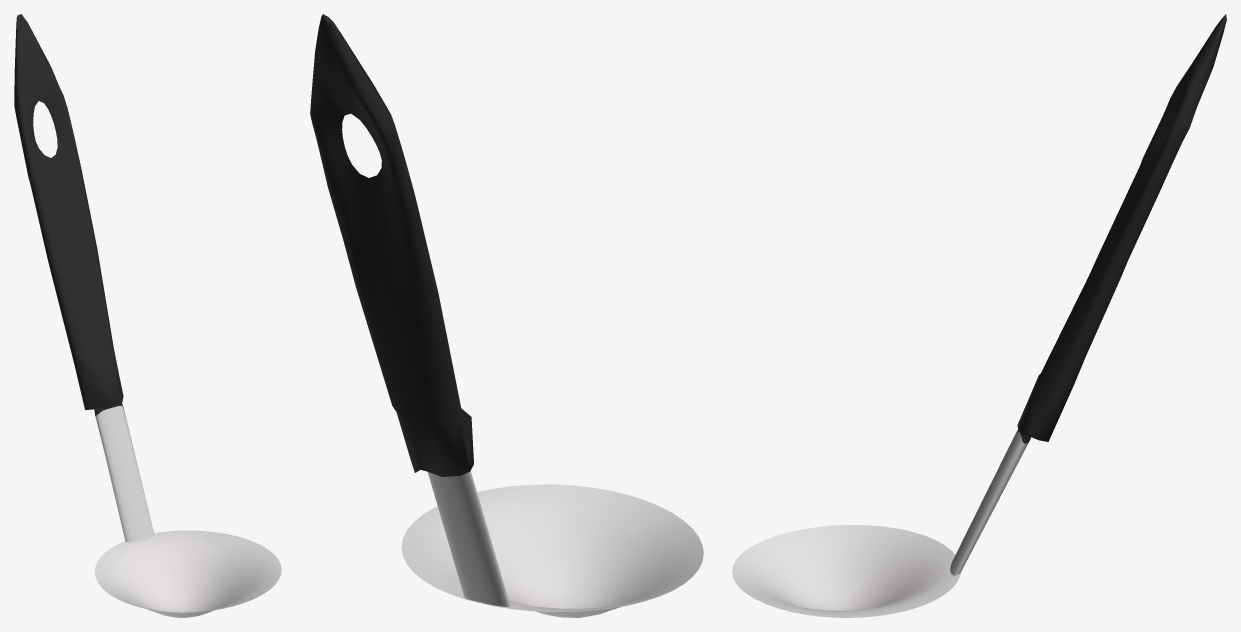
Rendered from otama.fbx.
3 renders of one model, left to right at view 1: azimuth 30°, elevation 25°; view 2: azimuth 150°, elevation 25°; view 3: azimuth 270°, elevation 25°, orthographic. The views are drawn at different scales.
Visible parts, largest first — view 1: polySurface4; view 2: polySurface4; view 3: polySurface4.
Part boxes in pixels (box(x1,y1,x2,y2)): polySurface4: box(14, 14, 281, 617); polySurface4: box(310, 14, 703, 617); polySurface4: box(732, 14, 1226, 617).
Bounding box in the file's own units: 13.37 × 38.23 × 28.85.
Materials: 1 (1 with a texture image).
